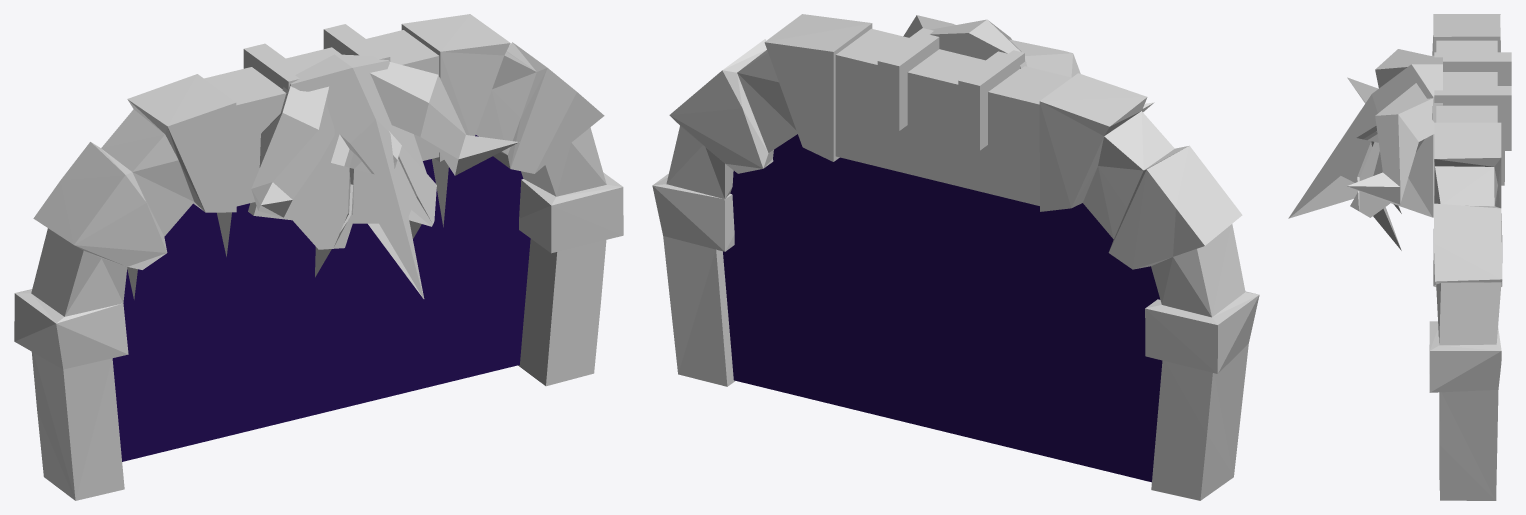
The model's file is Cave_G.fbx.
3 renders of one model, left to right at view 1: azimuth 30°, elevation 25°; view 2: azimuth 150°, elevation 25°; view 3: azimuth 270°, elevation 25°, orthographic. The views are drawn at different scales.
Parts seen in each view (by area): view 1: Cone, Plane, Skull; view 2: Cone, Plane, Skull; view 3: Cone, Skull.
Boxes of the visible parts, bbox=[...] form: Cone: bbox=[14, 14, 623, 500]; Plane: bbox=[112, 135, 530, 461]; Skull: bbox=[248, 54, 519, 298]; Cone: bbox=[652, 14, 1259, 500]; Plane: bbox=[723, 134, 1162, 482]; Skull: bbox=[903, 15, 1154, 111]; Cone: bbox=[1373, 14, 1511, 500]; Skull: bbox=[1288, 49, 1442, 218].
Bounding box in the file's own units: 1833 × 1182 × 729.
